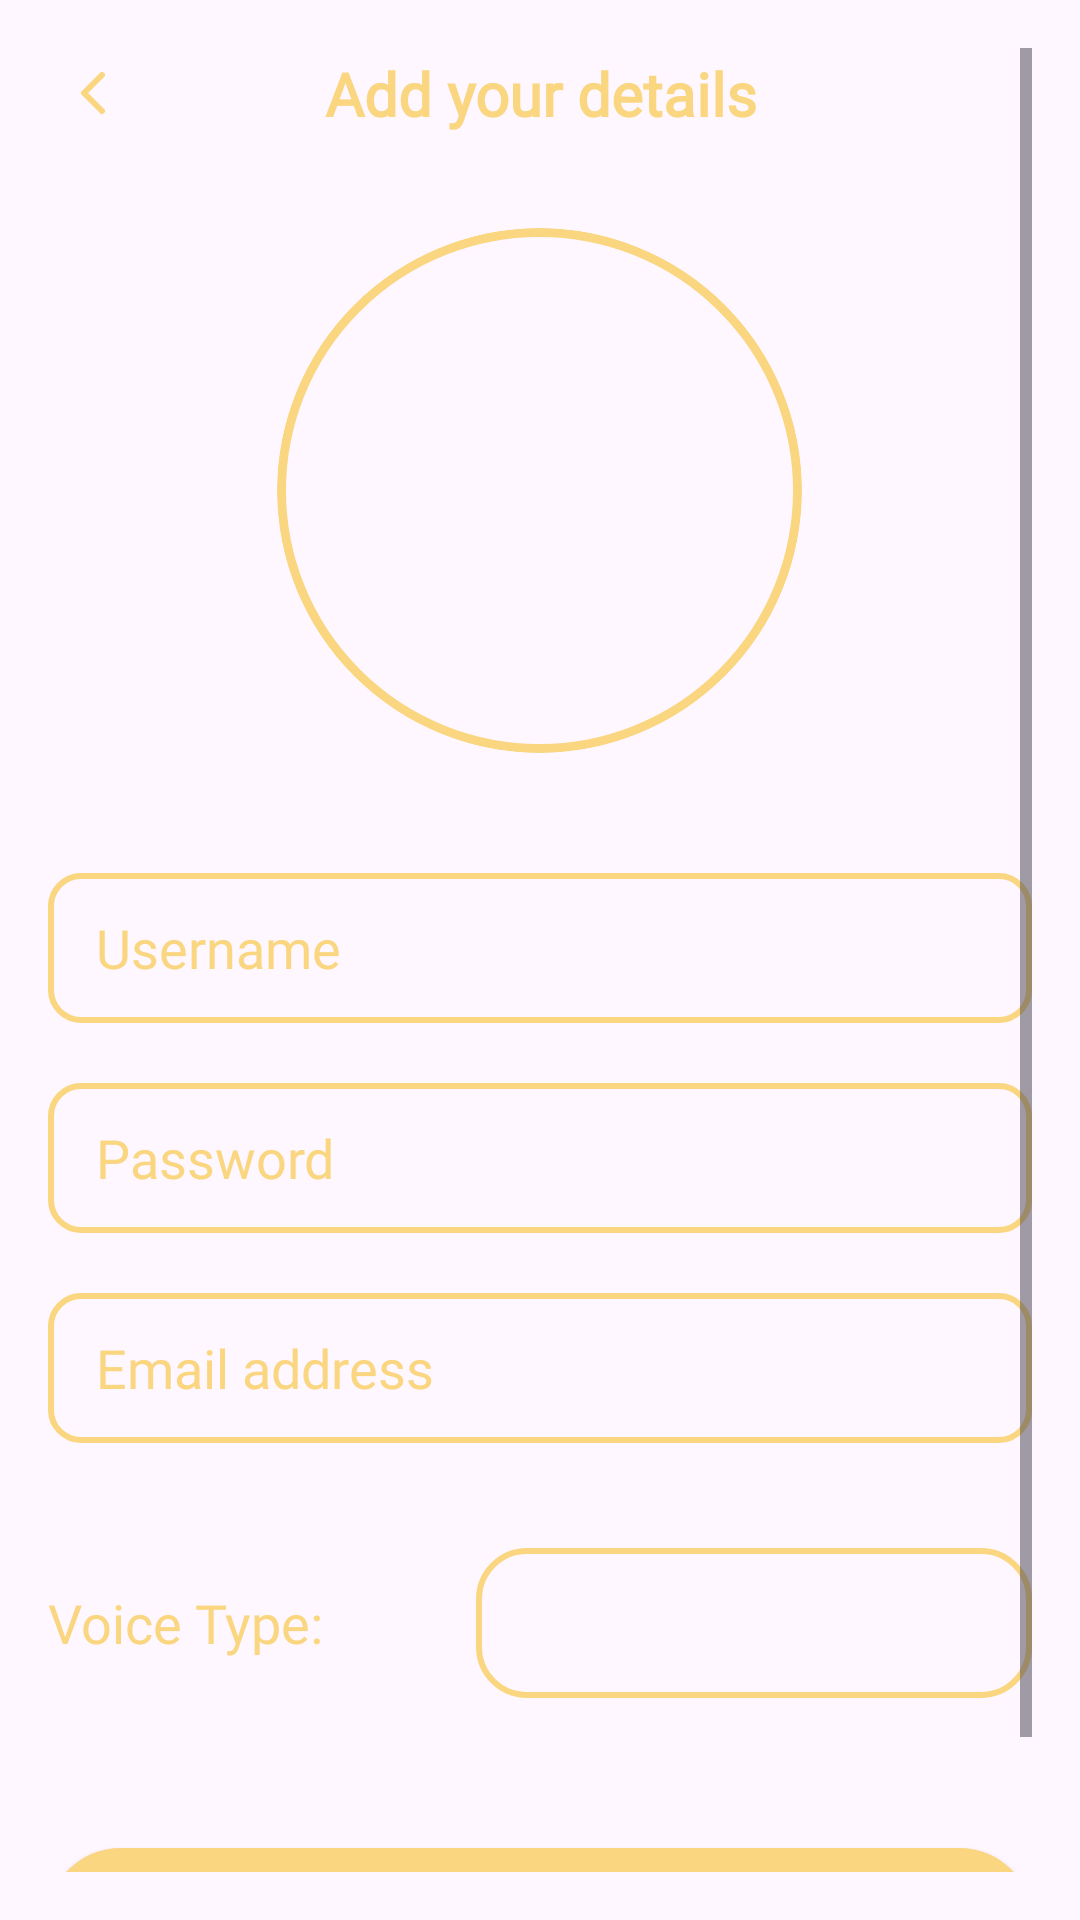

Screen size 1080 x 1920. Icon name, then its box in pixels as BBox(x1, y1, x2, y2):
arrow left: BBox(81, 72, 105, 114)
